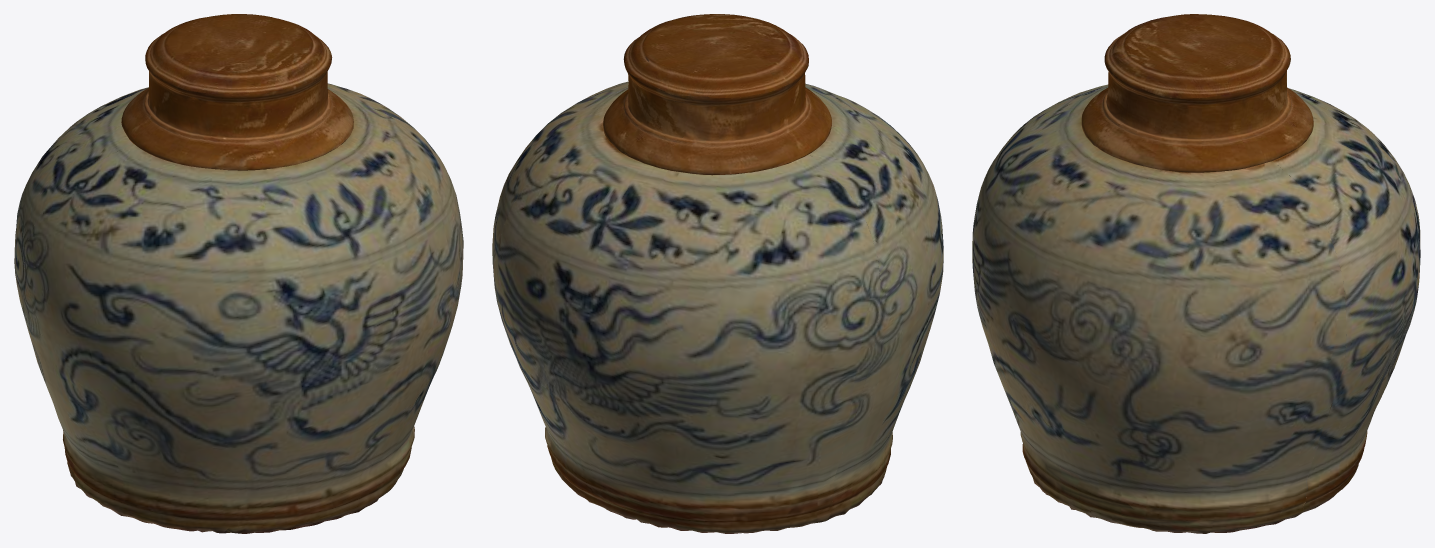
File: porcelain_vase.glb
The picture shows the model from 3 angles, left to right: view 1: azimuth 30°, elevation 25°; view 2: azimuth 150°, elevation 25°; view 3: azimuth 270°, elevation 25°; orthographic projection.
Parts seen in each view (by area): view 1: Object_4; view 2: Object_4; view 3: Object_4.
Part boxes in pixels (<box>): Object_4: <box>14,14,463,533</box>; Object_4: <box>492,14,943,533</box>; Object_4: <box>972,14,1420,533</box>.
Size of the model in its own units: 0.8697 by 0.9 by 0.8624.
Materials: 3 (2 with a texture image).
